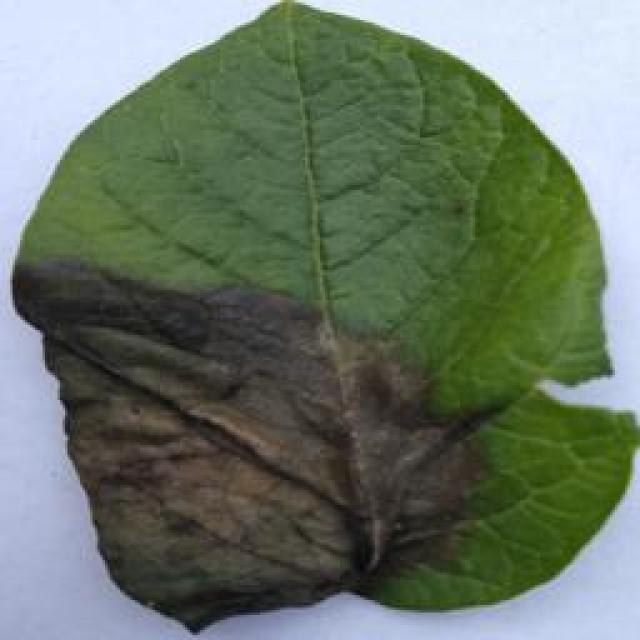Potato_Late_Blight: (7, 8, 634, 634)
